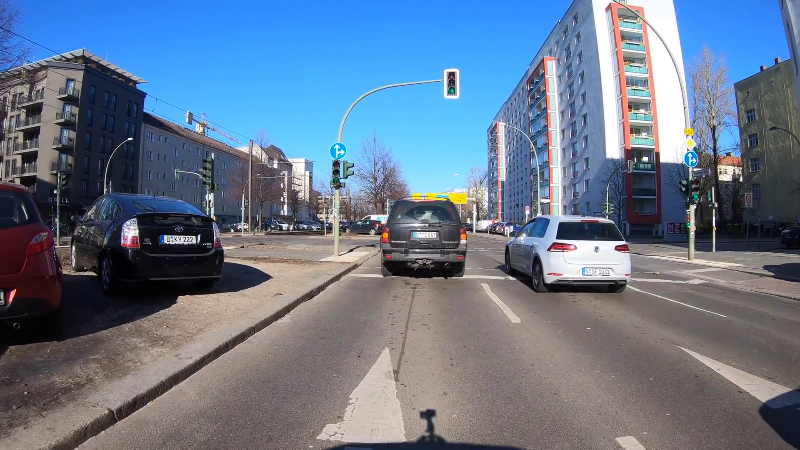Plate: (159, 232, 197, 244), (582, 266, 613, 276), (414, 230, 440, 238)
